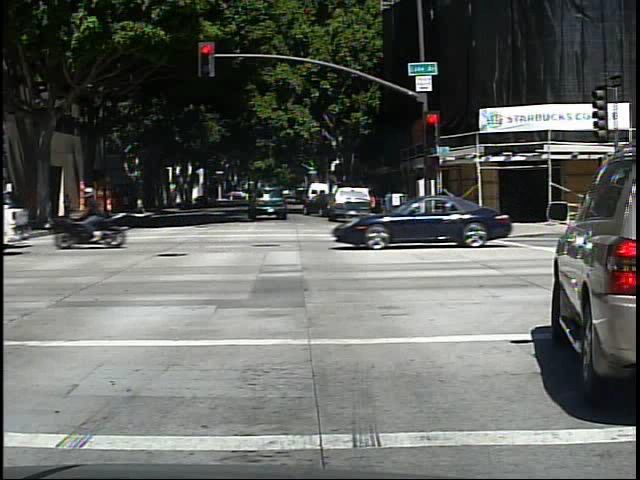person: (89, 182, 128, 243), (64, 191, 73, 220)
